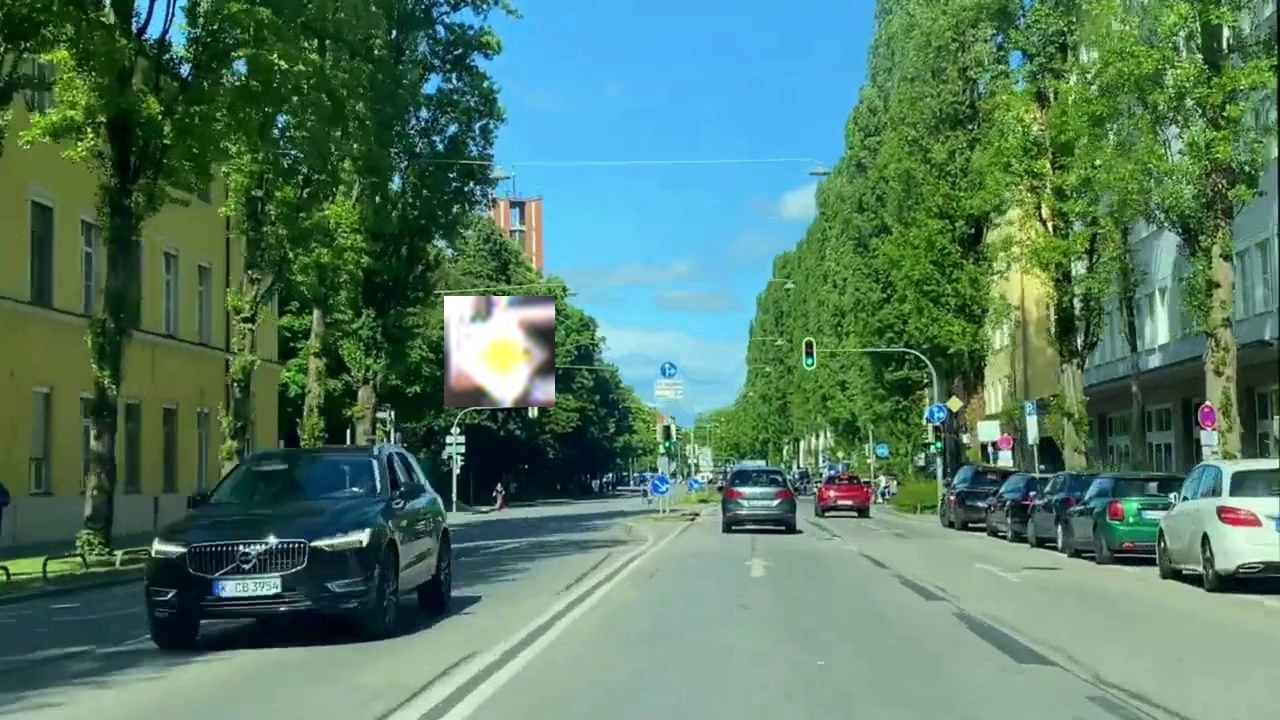Priority road: (444, 296, 555, 407)
